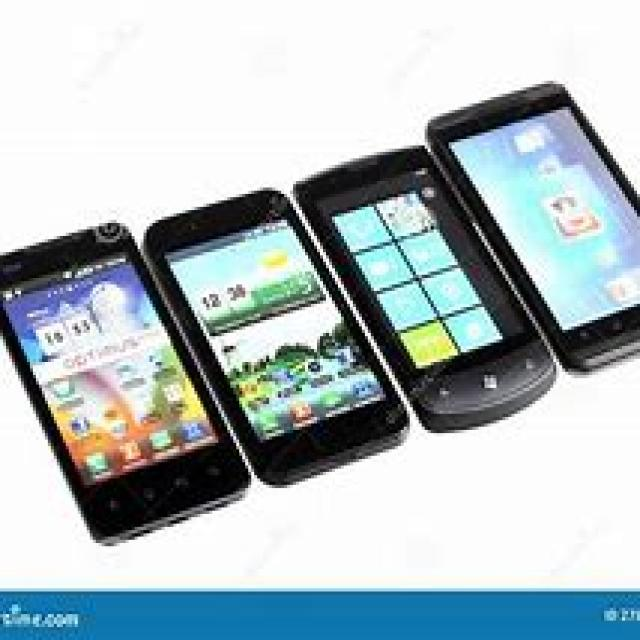smart phone: (154, 190, 394, 468), (348, 122, 518, 448), (488, 48, 640, 400), (7, 213, 152, 455)
